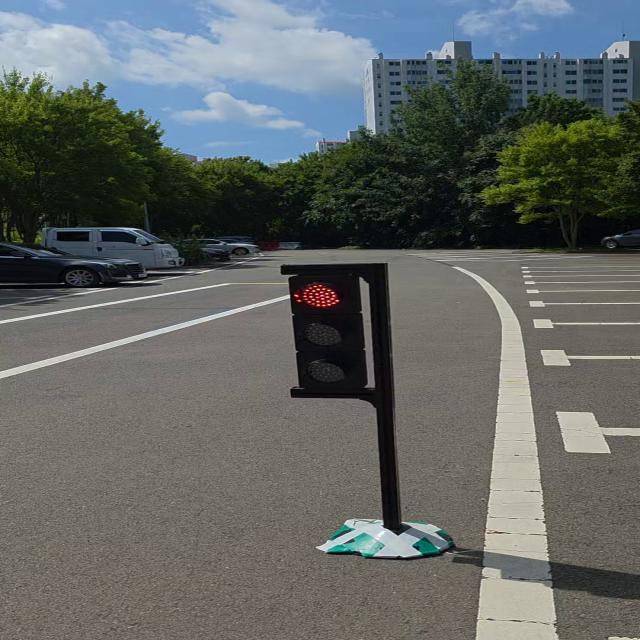red: (276, 262, 401, 401)
